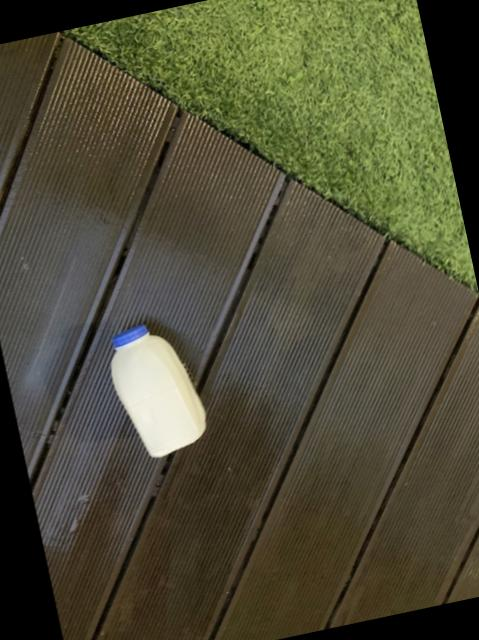plastic: (110, 326, 203, 458)
